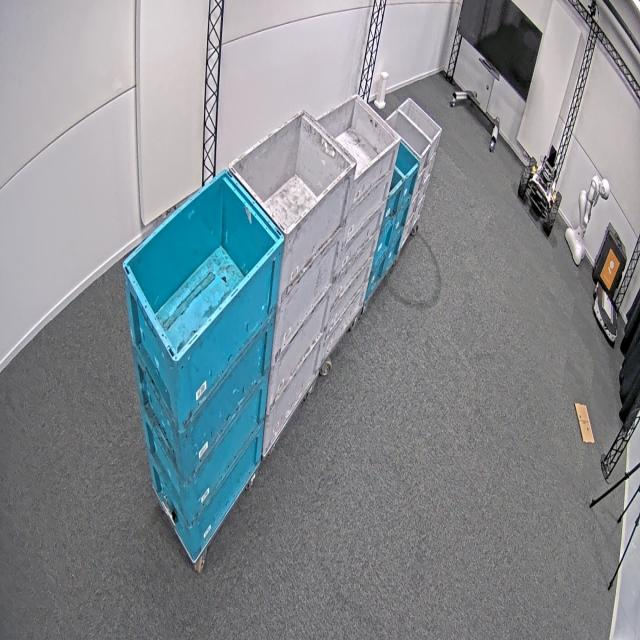Roll3G: (314, 95, 402, 183)
Roll4G: (228, 108, 359, 238)
Roll8G: (382, 97, 442, 159)
RollB4: (122, 167, 285, 364)
RollB8: (386, 138, 420, 199)
